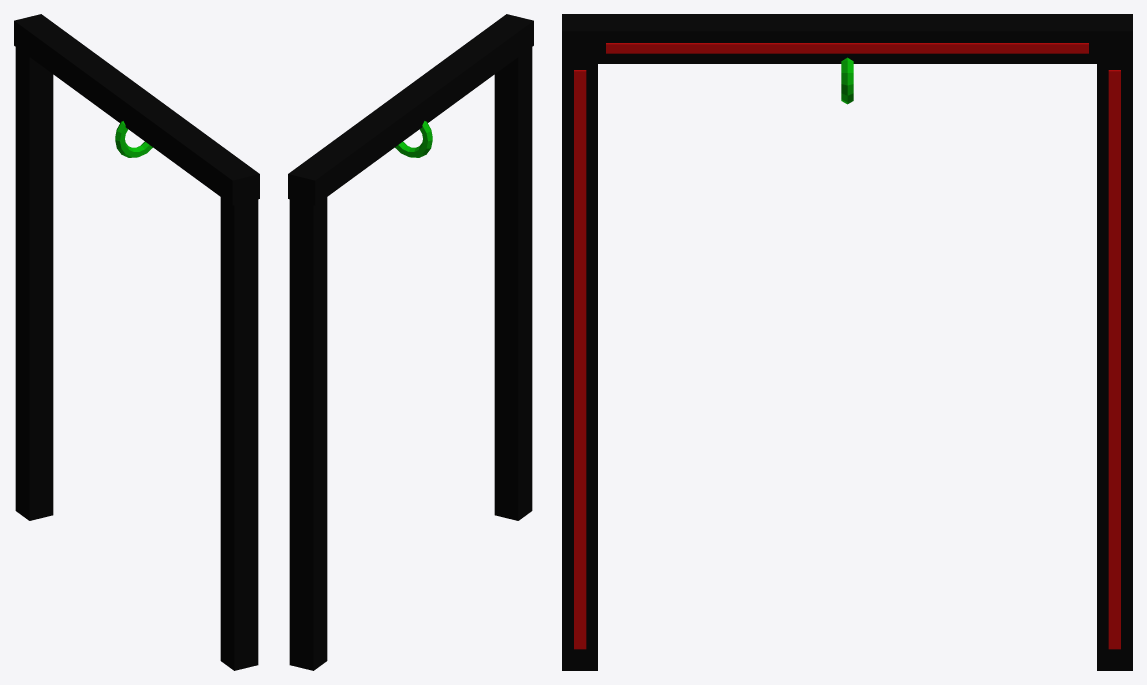
File: mace_gantry.glb
3 views of the same model, side by side, from view 1: azimuth 30°, elevation 25°; view 2: azimuth 150°, elevation 25°; view 3: azimuth 270°, elevation 25° (orthographic). The views are drawn at different scales.
Visible parts, largest first — view 1: MaceGantry; view 2: MaceGantry; view 3: MaceGantry.
Part boxes in pixels (x1=…): MaceGantry: x1=14, y1=14, x2=259, y2=670; MaceGantry: x1=288, y1=14, x2=533, y2=670; MaceGantry: x1=562, y1=14, x2=1132, y2=670.
Bounding box in the file's own units: 0.64 × 6.88 × 5.55.
